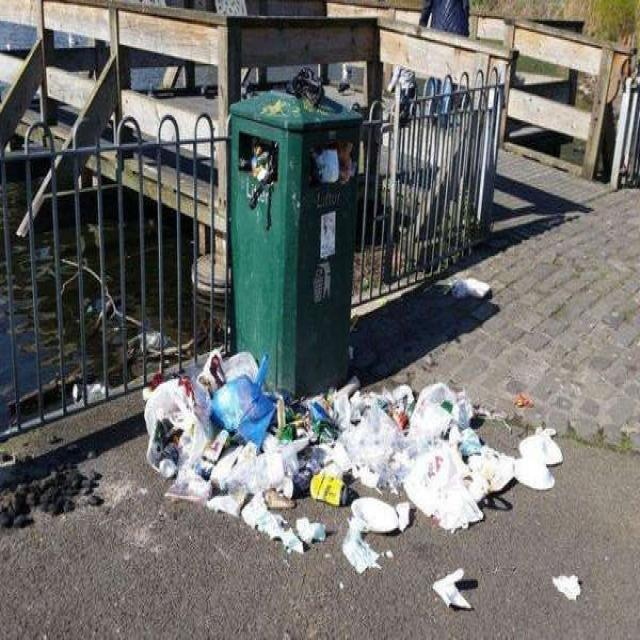garbage: (123, 63, 621, 640)
